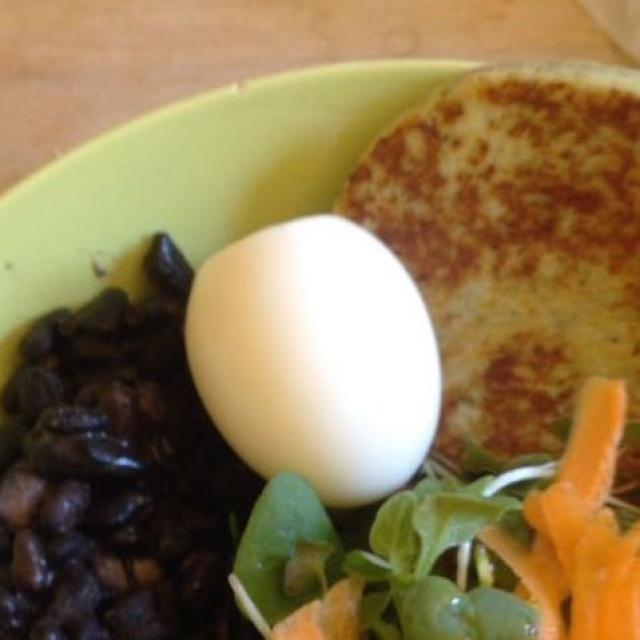egg: (185, 211, 492, 502)
